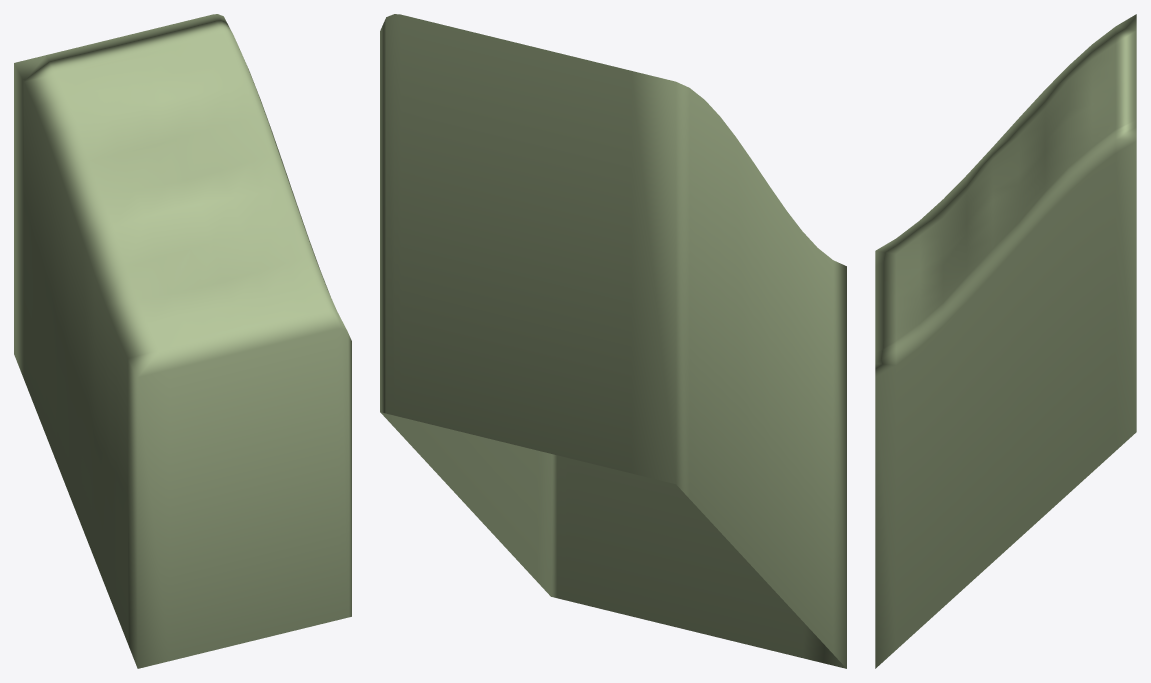
File: ground-ramp-r-12.glb
3 renders of one model, left to right at view 1: azimuth 30°, elevation 25°; view 2: azimuth 150°, elevation 25°; view 3: azimuth 270°, elevation 25°, orthographic. The views are drawn at different scales.
Parts seen in each view (by area): view 1: ground-ramp-r-12; view 2: ground-ramp-r-12; view 3: ground-ramp-r-12.
Part boxes in pixels (box(x1,y1,x2,y2)): ground-ramp-r-12: box(14, 14, 351, 668); ground-ramp-r-12: box(380, 14, 846, 668); ground-ramp-r-12: box(875, 14, 1136, 668).
Bounding box in the file's own units: 1 × 2.3 × 1.
